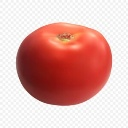tomato: (16, 23, 112, 106)
